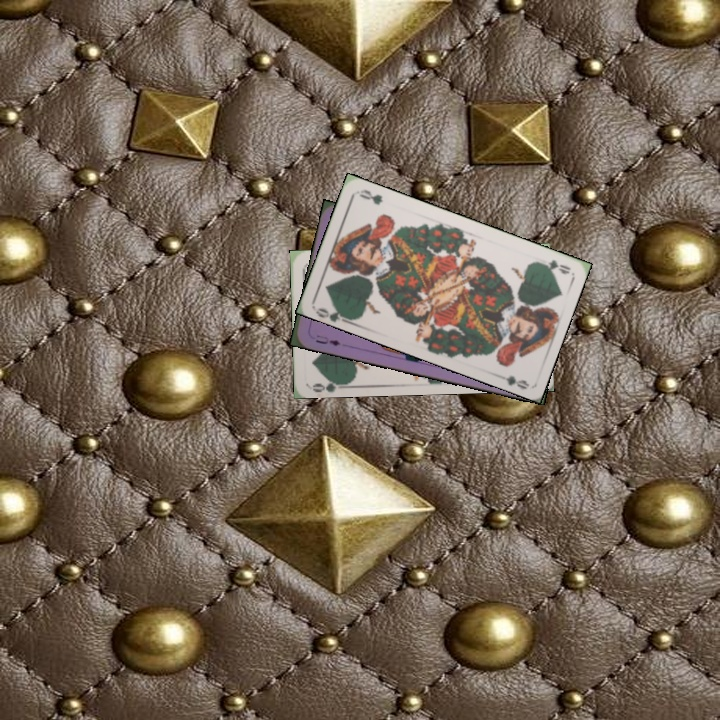EU: (311, 331, 343, 349)
GO: (312, 300, 352, 326), (531, 255, 572, 277), (308, 373, 349, 393)
